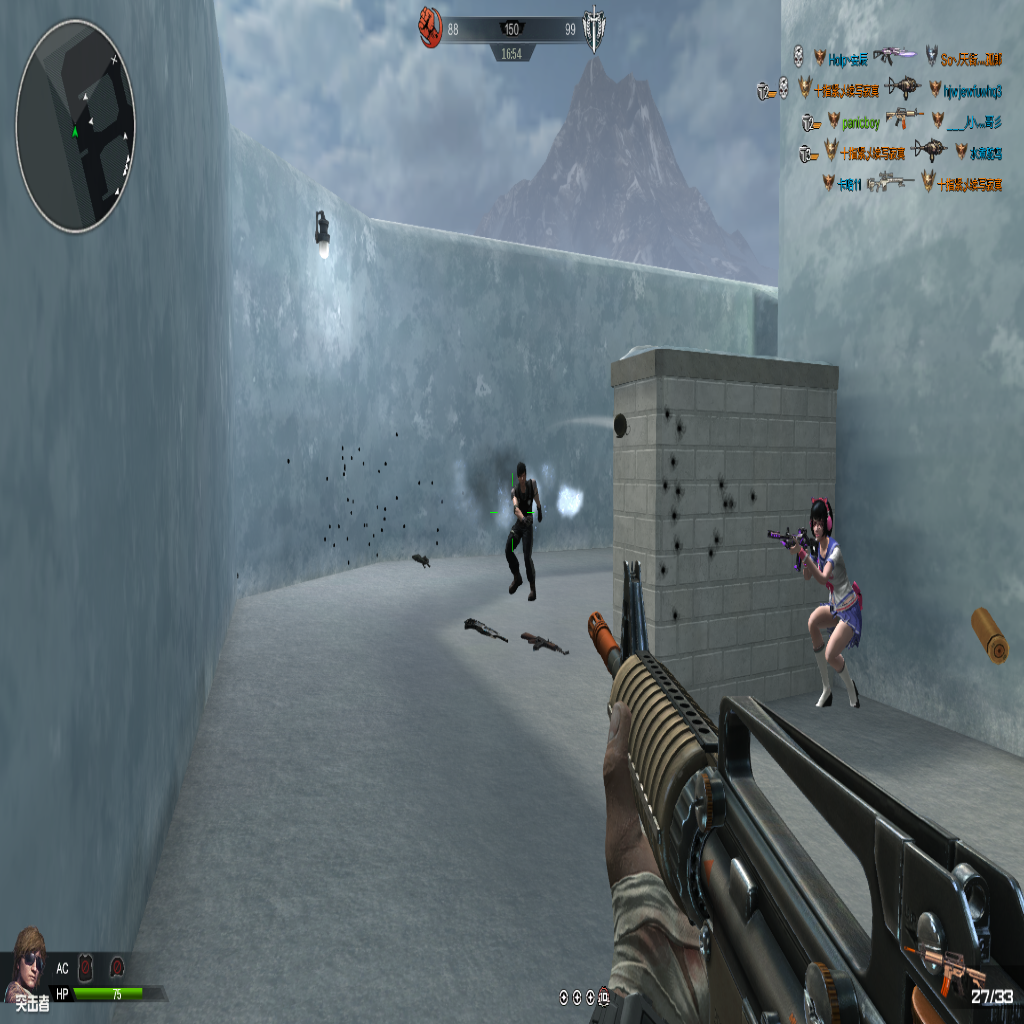ct: (506, 457, 543, 604)
